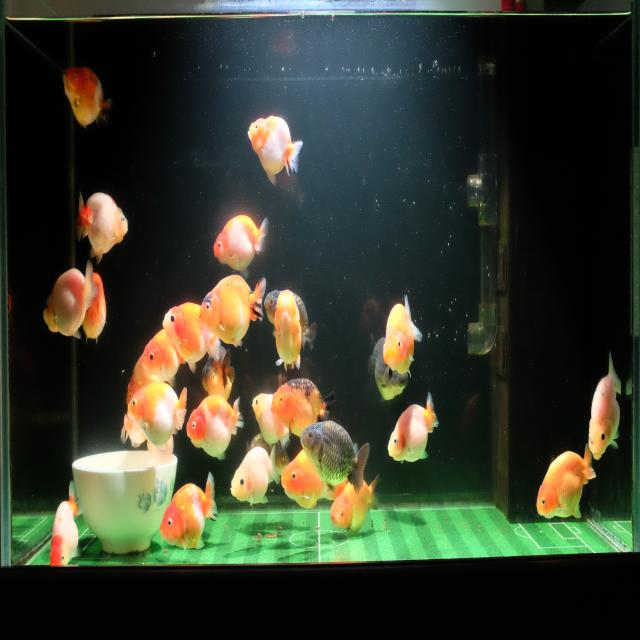Goldfish: (297, 418, 372, 500), (156, 470, 222, 556), (534, 438, 599, 523), (198, 275, 267, 353), (41, 255, 99, 343), (161, 294, 222, 375), (247, 110, 303, 192), (185, 390, 245, 464), (126, 378, 187, 448), (270, 378, 335, 442), (75, 185, 129, 262), (588, 347, 622, 468), (386, 394, 440, 468), (210, 209, 270, 273), (328, 466, 382, 537), (365, 328, 411, 411), (264, 288, 320, 356), (61, 61, 112, 133), (382, 291, 422, 380), (46, 475, 85, 566), (228, 446, 282, 511), (279, 446, 331, 510), (138, 325, 186, 383), (271, 288, 301, 376), (198, 342, 238, 408), (252, 387, 292, 449), (242, 430, 289, 475), (84, 270, 108, 349)
